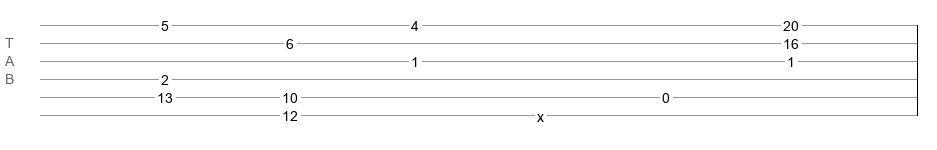0: (662, 90, 670, 100)
1: (411, 54, 419, 64), (787, 54, 795, 64)
10: (282, 90, 298, 100)
12: (282, 108, 298, 118)
13: (157, 90, 173, 100)
16: (783, 36, 799, 46)
2: (161, 72, 169, 82)
20: (783, 18, 799, 28)
4: (411, 18, 419, 28)
5: (161, 18, 169, 28)
6: (286, 36, 294, 46)
x: (537, 109, 544, 117)
